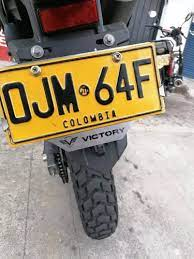placa_moto: (0, 42, 167, 147)
